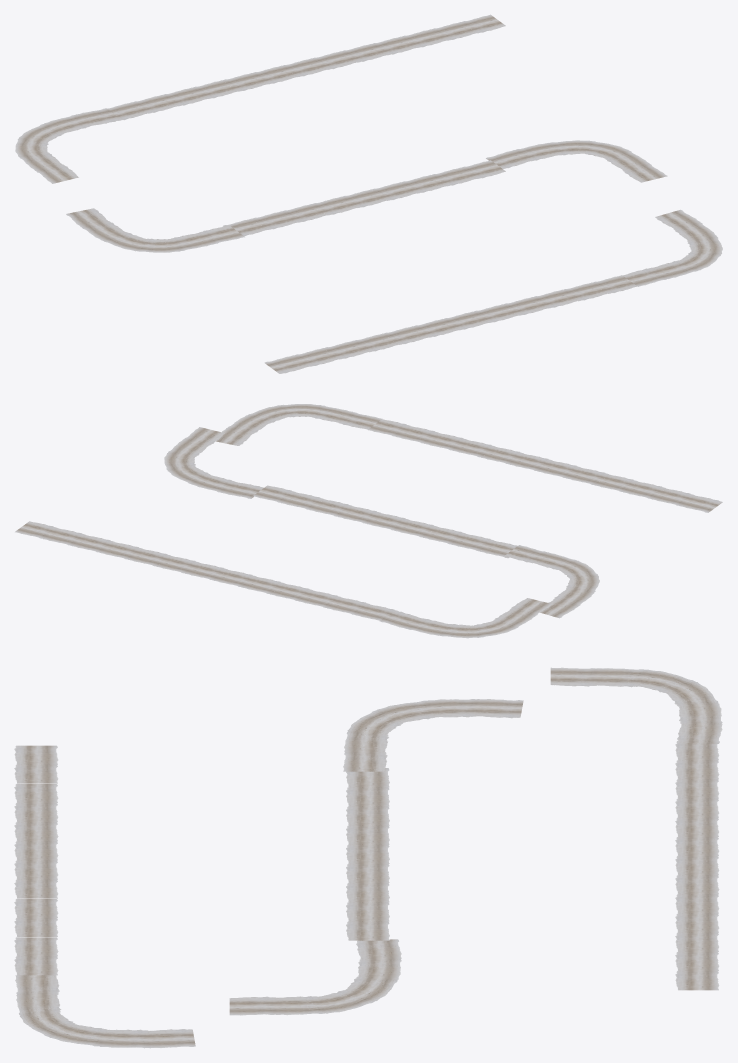
The model's file is Path.fbx.
3 renders of one model, top to bottom at view 1: azimuth 30°, elevation 25°; view 2: azimuth 150°, elevation 25°; view 3: azimuth 270°, elevation 25°, orthographic. The views are drawn at different scales.
Parts seen in each view (by area): view 1: Path_01__1_1; view 2: Path_01__1_1; view 3: Path_01__1_1.
Part boxes in pixels (x1,y1,x2,y2): Path_01__1_1: (15, 14, 722, 373); Path_01__1_1: (15, 404, 722, 638); Path_01__1_1: (14, 667, 722, 1048).
Bounding box in the file's own units: 13077 × 1174 × 12147.
